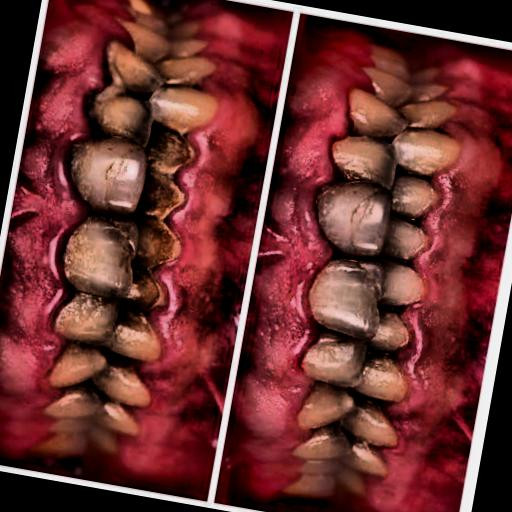Calculus: (114, 0, 289, 499), (351, 46, 512, 512), (218, 18, 372, 502), (0, 0, 130, 470)
